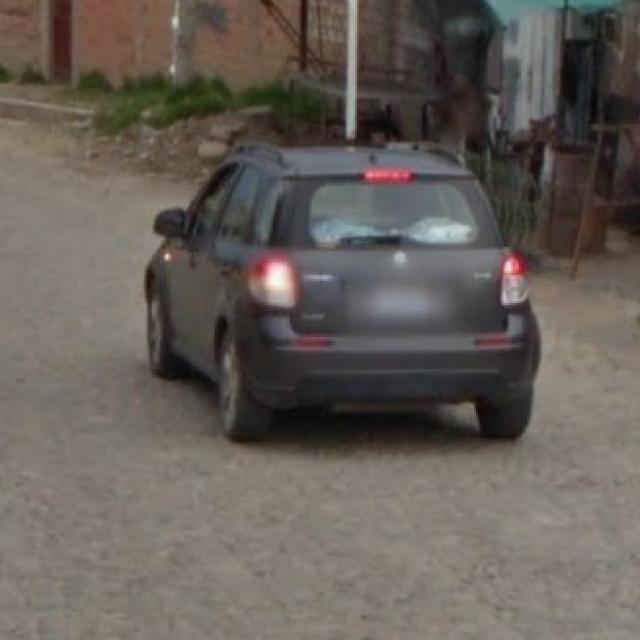Car: (141, 133, 544, 444)
